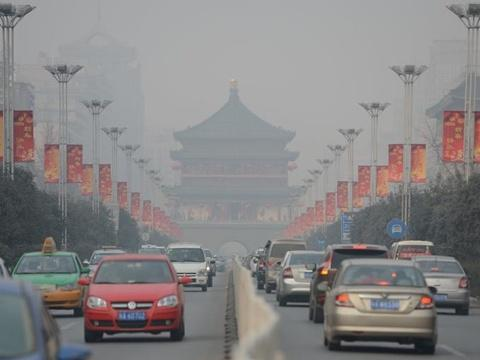car: (323, 257, 440, 355), (83, 254, 185, 342), (311, 242, 393, 327), (9, 237, 89, 317), (404, 254, 471, 318), (275, 247, 339, 307), (389, 239, 443, 297), (81, 244, 137, 290), (262, 238, 308, 292), (162, 242, 211, 292), (256, 245, 299, 292), (134, 241, 169, 277), (249, 247, 285, 279), (182, 247, 215, 279)
